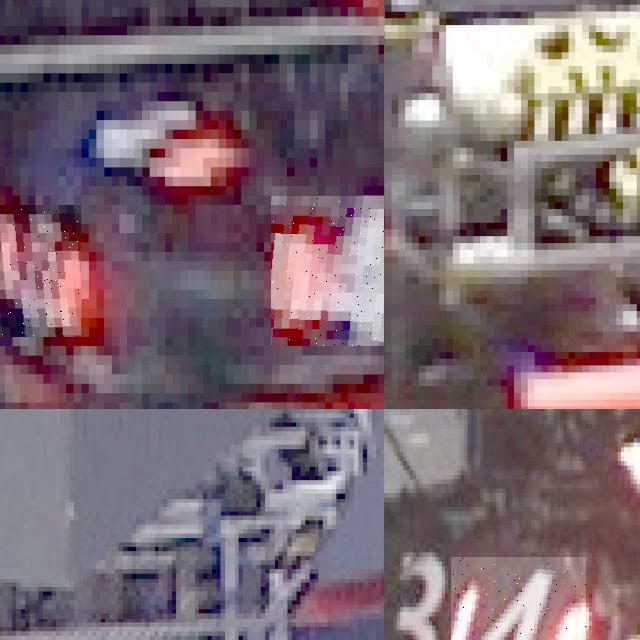R4: (271, 195, 384, 346), (451, 556, 585, 640), (0, 205, 81, 337)
